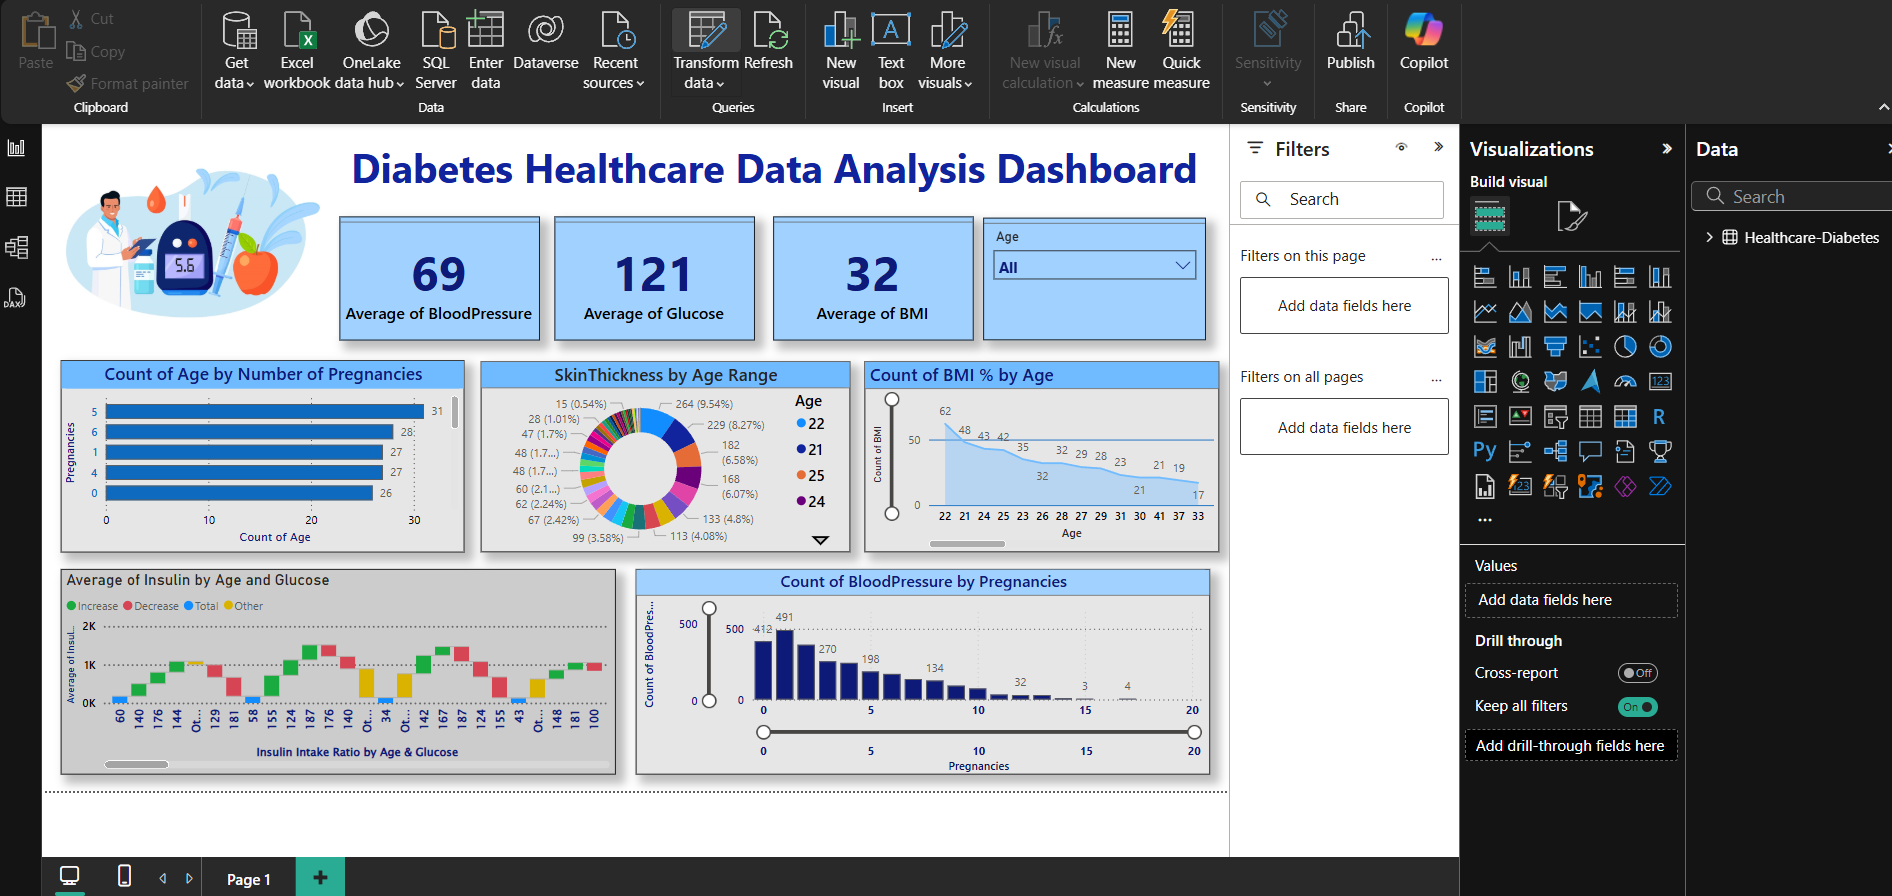

Layout of this report page (visuals, bound fields, positions):
{"tool":"powerbi","page":{"name":"Page 1","canvas":[1280,720],"ordinal":0},"visuals":[{"type":"textbox","box":[320.1,12.5,949.1,83.5],"z":0},{"type":"card","fields":{"Values":["Avg(Healthcare-Diabetes.BloodPressure)"]},"box":[320.1,100.2,215.7,133.6],"z":1000},{"type":"card","fields":{"Values":["Avg(Healthcare-Diabetes.Glucose)"]},"box":[552.5,100.2,215.7,133.6],"z":2000},{"type":"card","fields":{"Values":["Avg(Healthcare-Diabetes.BMI)"]},"box":[789,100.2,215.7,133.6],"z":3000},{"type":"clusteredBarChart","title":"Count of Age by Number of Pregnancies","fields":{"Category":["Healthcare-Diabetes.Pregnancies"],"Y":["Count(Healthcare-Diabetes.Age)"]},"box":[20.9,254.7,435.6,207.4],"z":4000},{"type":"donutChart","title":"SkinThickness by Age Range","fields":{"Category":["Healthcare-Diabetes.Age"],"Y":["CountNonNull(Healthcare-Diabetes.SkinThickness)"]},"box":[473.1,256.1,398,206],"z":5000},{"type":"lineChart","title":"Count of BMI % by Age","fields":{"Y":["Count(Healthcare-Diabetes.BMI)"],"Category":["Healthcare-Diabetes.Age"]},"box":[886.5,256.1,382.7,206],"z":6000},{"type":"waterfallChart","title":"Average of Insulin by Age and Glucose","fields":{"Category":["Healthcare-Diabetes.Age"],"Y":["Avg(Healthcare-Diabetes.Insulin)"],"Breakdown":["Healthcare-Diabetes.Glucose"]},"box":[20.9,480.1,598.4,221.3],"z":7000},{"type":"columnChart","fields":{"Category":["Healthcare-Diabetes.Pregnancies"],"Y":["CountNonNull(Healthcare-Diabetes.BloodPressure)"]},"box":[640.1,480.1,619.3,221.3],"z":8000},{"type":"slicer","fields":{"Values":["Healthcare-Diabetes.Age"]},"box":[1014.5,101.6,240,132],"z":9000},{"type":"textbox","box":[20.9,12.5,283.9,221.3],"z":10000},{"type":"image","box":[2.8,2.8,320.1,251.9],"z":11000}]}

Visuals, with their boxes on the page's 1280x720 design canvas (x1, y1, x2, y2). These are canvas units, not pixel positions in the 1892x896 screenshot, which may show the page scaled, cropped or inside an application window:
textbox: [x1=320, y1=12, x2=1269, y2=96]
card - Avg(Healthcare-Diabetes.BloodPressure): [x1=320, y1=100, x2=536, y2=234]
card - Avg(Healthcare-Diabetes.Glucose): [x1=552, y1=100, x2=768, y2=234]
card - Avg(Healthcare-Diabetes.BMI): [x1=789, y1=100, x2=1005, y2=234]
"Count of Age by Number of Pregnancies" clusteredBarChart: [x1=21, y1=255, x2=456, y2=462]
"SkinThickness by Age Range" donutChart: [x1=473, y1=256, x2=871, y2=462]
"Count of BMI % by Age" lineChart: [x1=886, y1=256, x2=1269, y2=462]
"Average of Insulin by Age and Glucose" waterfallChart: [x1=21, y1=480, x2=619, y2=701]
columnChart - Healthcare-Diabetes.Pregnancies x CountNonNull(Healthcare-Diabetes.BloodPressure): [x1=640, y1=480, x2=1259, y2=701]
slicer - Healthcare-Diabetes.Age: [x1=1014, y1=102, x2=1254, y2=234]
textbox: [x1=21, y1=12, x2=305, y2=234]
image: [x1=3, y1=3, x2=323, y2=255]
